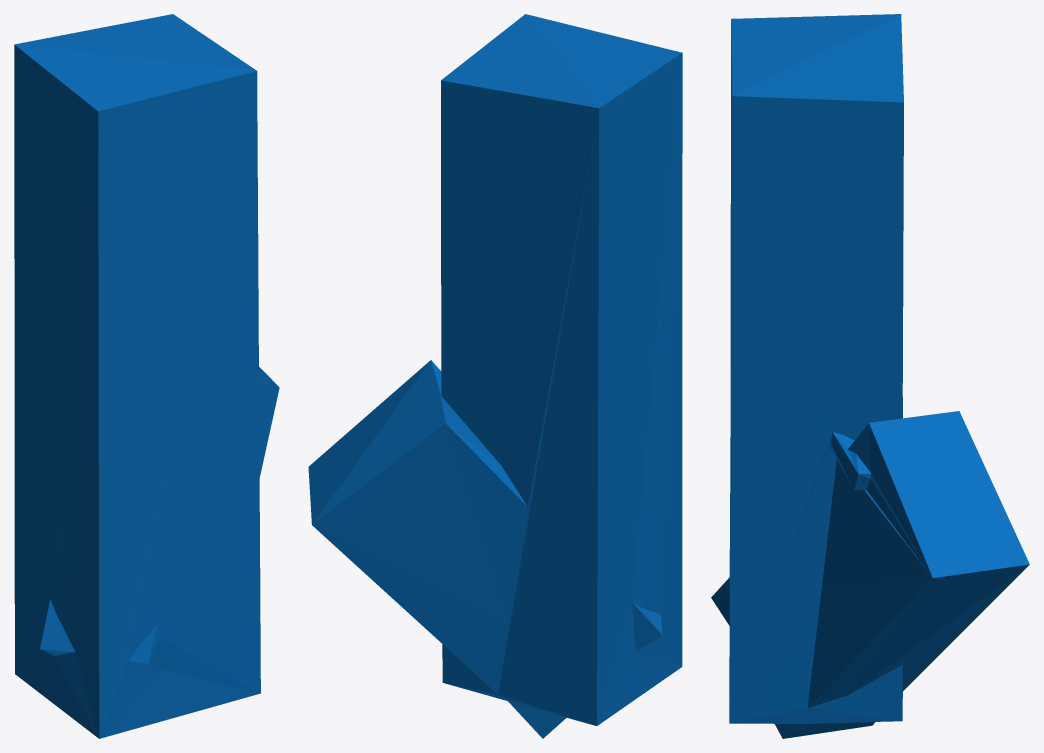
3 renders of one model, left to right at view 1: azimuth 30°, elevation 25°; view 2: azimuth 150°, elevation 25°; view 3: azimuth 270°, elevation 25°, orthographic. The views are drawn at different scales.
Visible parts, largest first — view 1: 995_Cube.4016; view 2: 995_Cube.4016; view 3: 995_Cube.4016.
Part boxes in pixels (x1,y1,x2,y2): 995_Cube.4016: [14, 14, 279, 738]; 995_Cube.4016: [308, 14, 682, 738]; 995_Cube.4016: [711, 14, 1029, 738].
Bounding box in the file's own units: 6.04 × 12.89 × 5.51.
